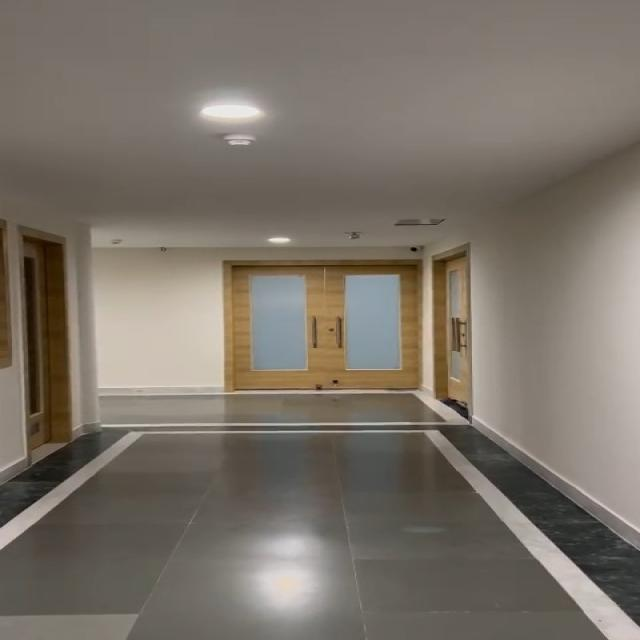door: (225, 251, 432, 389), (14, 216, 78, 452), (427, 258, 475, 406)
floor: (0, 486, 587, 640), (108, 391, 450, 488)
wall: (472, 199, 640, 431), (99, 246, 221, 394)
